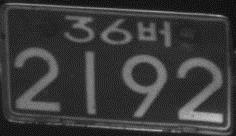1: (71, 50, 109, 116)
2: (176, 56, 224, 124), (13, 45, 60, 112)
3: (63, 13, 94, 43)
6: (100, 17, 132, 45)
9: (121, 52, 168, 118)
버: (136, 20, 172, 48)
